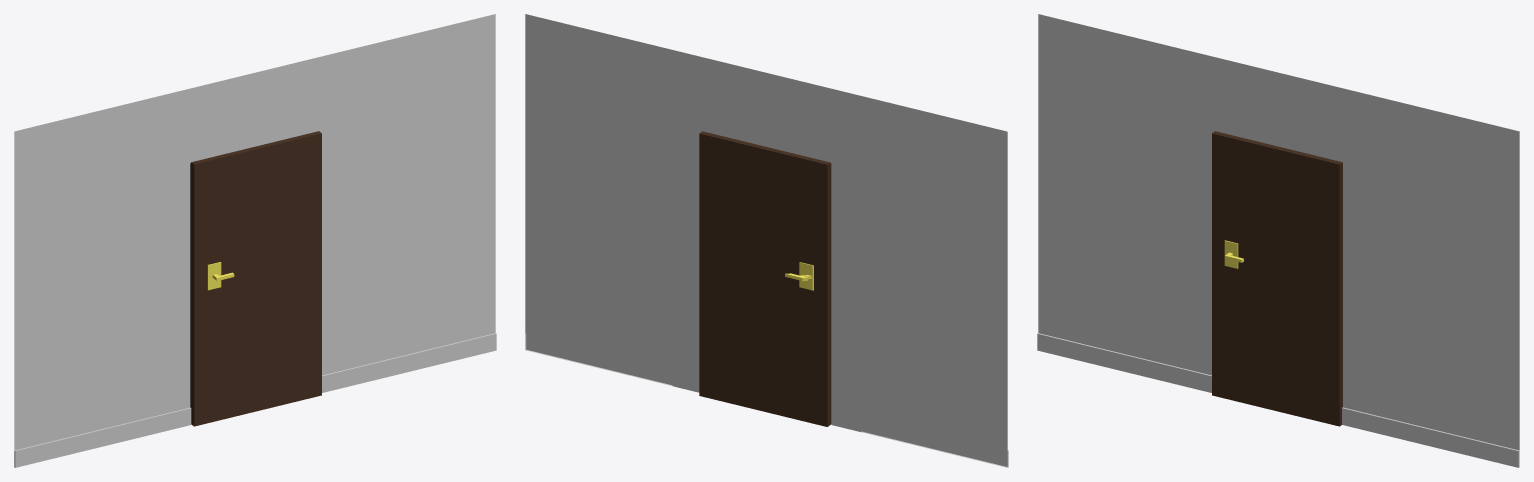
File: dør.fbx
3 renders of one model, left to right at view 1: azimuth 30°, elevation 25°; view 2: azimuth 150°, elevation 25°; view 3: azimuth 330°, elevation 25°, orthographic.
Parts seen in each view (by area): view 1: Plane.001, Cube; view 2: Plane.001, Cube; view 3: Plane.001, Cube.
Boxes of the visible parts, x1=… form: Plane.001: x1=14, y1=14, x2=496, y2=467; Cube: x1=190, y1=131, x2=321, y2=426; Plane.001: x1=525, y1=14, x2=1008, y2=467; Cube: x1=699, y1=131, x2=831, y2=426; Plane.001: x1=1037, y1=14, x2=1519, y2=467; Cube: x1=1212, y1=131, x2=1342, y2=426.
Size of the model in its own units: 900 by 600 by 52.6.
